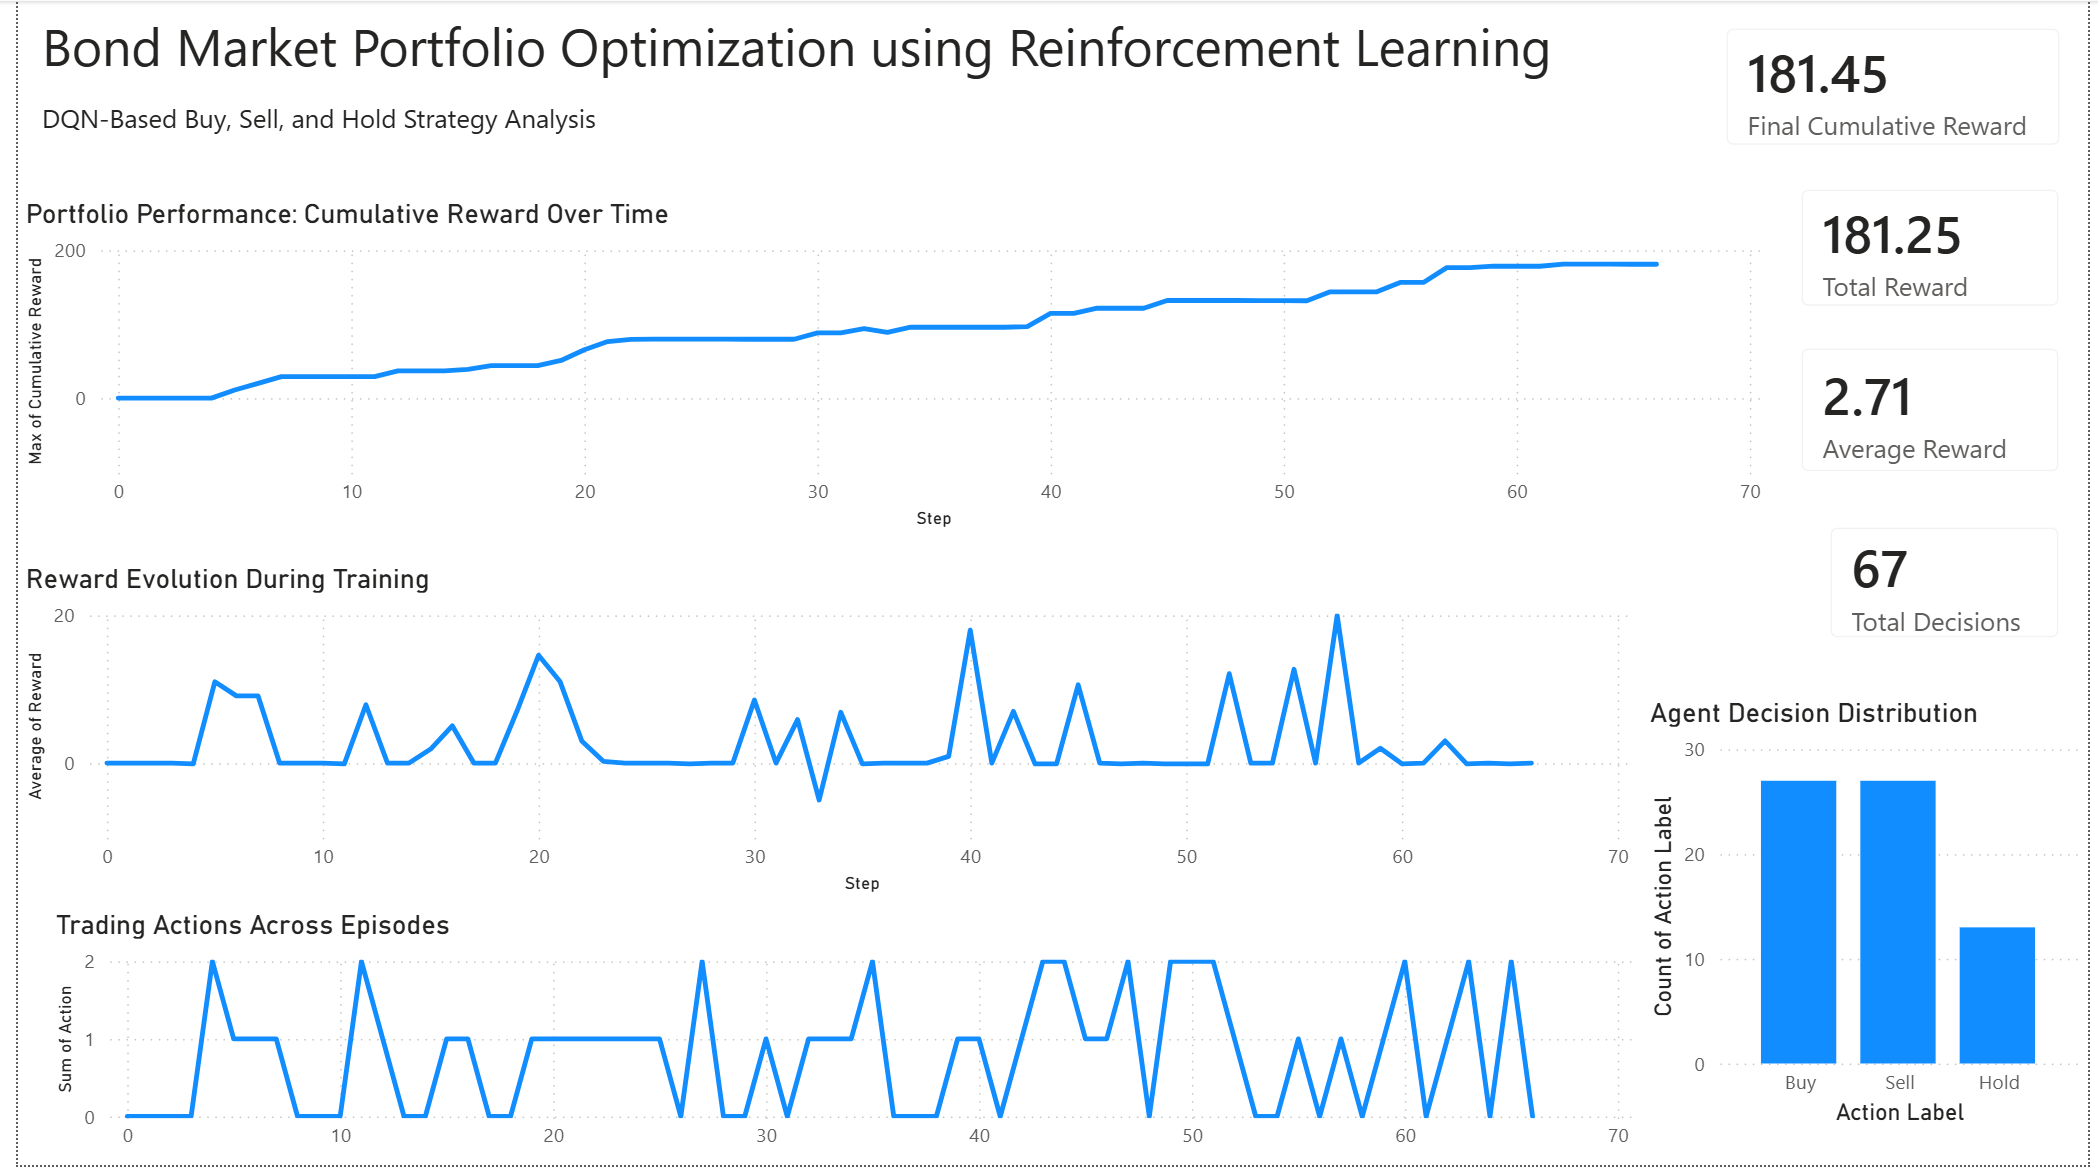

What the dashboard file says about the page in this screenshot:
{"tool":"powerbi","page":{"name":"Page 1","canvas":[1280,720],"ordinal":0},"visuals":[{"type":"textbox","box":[9.8,0,945.6,56.3],"z":0},{"type":"textbox","box":[9.8,56.3,366.5,36],"z":1000},{"type":"cardVisual","fields":{"Data":["bond_rl_powerbi.Final Cumulative Reward"]},"box":[1039.8,0,240,106.4],"z":2000},{"type":"cardVisual","fields":{"Data":["bond_rl_powerbi.Total Reward"]},"box":[1086.2,99.6,193.6,106.4],"z":3000},{"type":"cardVisual","fields":{"Data":["bond_rl_powerbi.Average Reward"]},"box":[1086.2,197.9,193.6,110.7],"z":4000},{"type":"cardVisual","fields":{"Data":["bond_rl_powerbi.Total Decisions"]},"box":[1104.1,308.7,175.7,102.1],"z":5000},{"type":"lineChart","title":"Portfolio Performance: Cumulative Reward Over Time","fields":{"Y":["Max(bond_rl_powerbi.Cumulative Reward)"],"Category":["bond_rl_powerbi.Step"]},"box":[0,121.2,1086.2,209.1],"z":6000},{"type":"lineChart","title":"Reward Evolution During Training","fields":{"Category":["bond_rl_powerbi.Step"],"Y":["Avg(bond_rl_powerbi.Reward)"]},"box":[0,347,1004.5,209.1],"z":7000},{"type":"clusteredColumnChart","title":"Agent Decision Distribution","fields":{"Category":["bond_rl_powerbi.Action Label"],"Y":["CountNonNull(bond_rl_powerbi.Action Label)"]},"box":[1004.5,429.9,275.3,270.3],"z":7001},{"type":"lineChart","title":"Trading Actions Across Episodes","fields":{"Category":["bond_rl_powerbi.Step"],"Y":["Sum(bond_rl_powerbi.Action)"]},"box":[18.6,561,986,159],"z":7002}]}

Visuals, with their boxes in screenshot pixels (x1, y1, x2, y2), scaled from the page's 1280x720 canvas onto the 2098x1168 screenshot:
textbox: rect(16, 0, 1566, 91)
textbox: rect(16, 91, 617, 150)
cardVisual - bond_rl_powerbi.Final Cumulative Reward: rect(1704, 0, 2097, 173)
cardVisual - bond_rl_powerbi.Total Reward: rect(1780, 162, 2097, 334)
cardVisual - bond_rl_powerbi.Average Reward: rect(1780, 321, 2097, 501)
cardVisual - bond_rl_powerbi.Total Decisions: rect(1810, 501, 2097, 666)
"Portfolio Performance: Cumulative Reward Over Time" lineChart: rect(0, 197, 1780, 536)
"Reward Evolution During Training" lineChart: rect(0, 563, 1646, 902)
"Agent Decision Distribution" clusteredColumnChart: rect(1646, 697, 2097, 1136)
"Trading Actions Across Episodes" lineChart: rect(30, 910, 1647, 1167)
